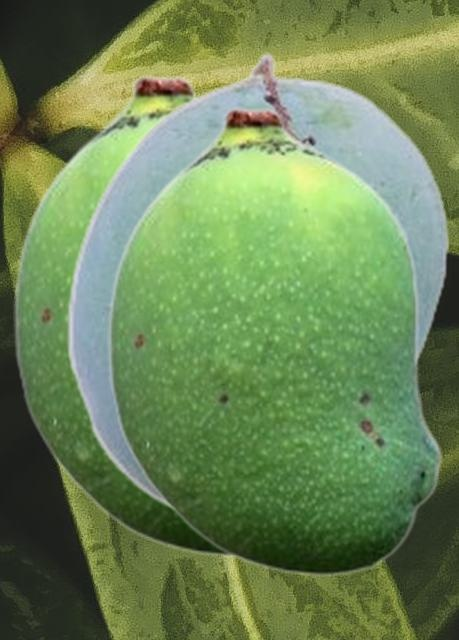green_mango: (66, 52, 449, 513), (107, 106, 442, 577), (13, 74, 230, 558)
